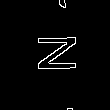N_W: (31, 40, 80, 81)
